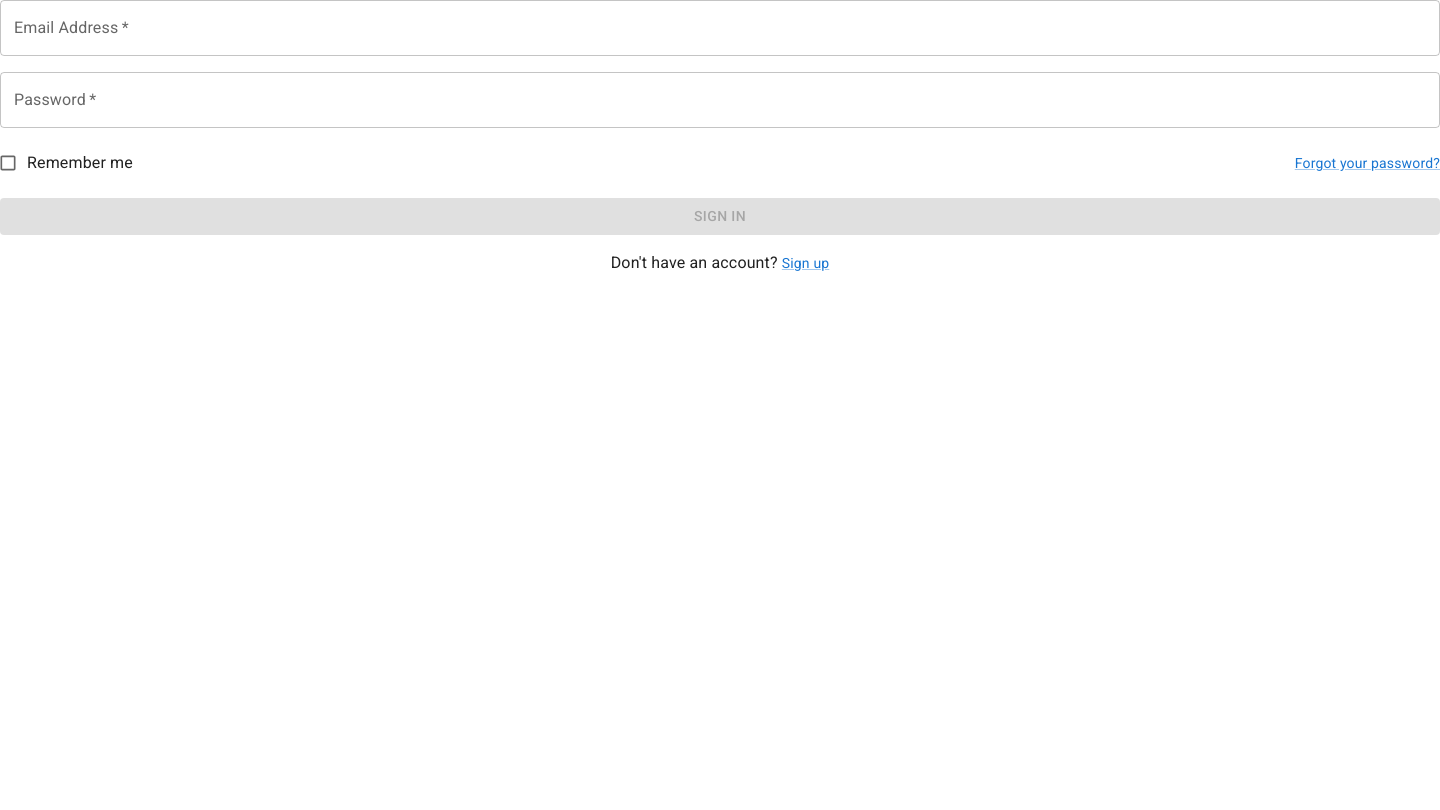
LoginForm › opens forgot password when Forgot your password is clicked
What coordinates should you click on to do the following:
click the button "Forgot your password?"
I would click on:
 (1367, 163)
Its box is [720,153,1439,173].
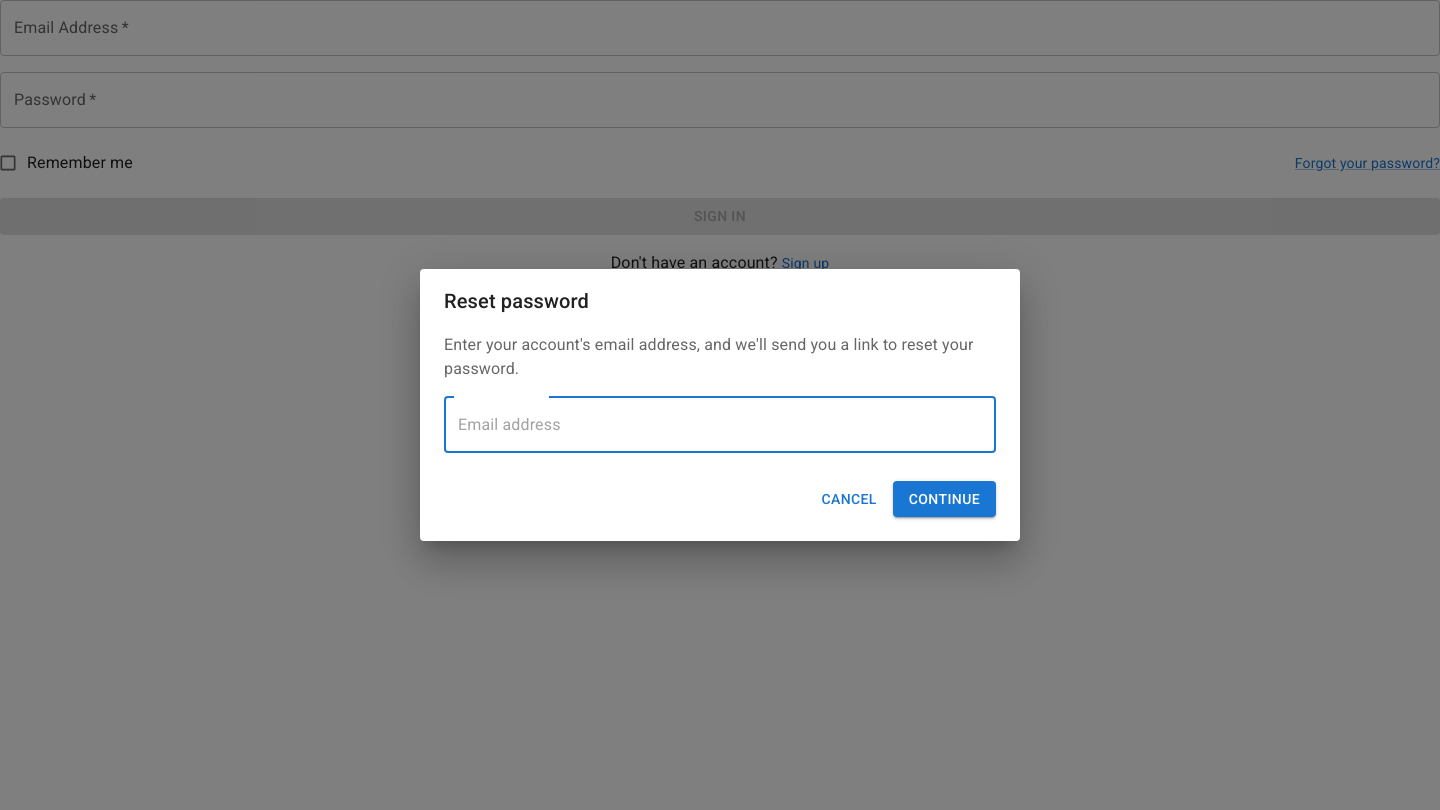
Now the dialog is shown, box [420,269,1020,541]
